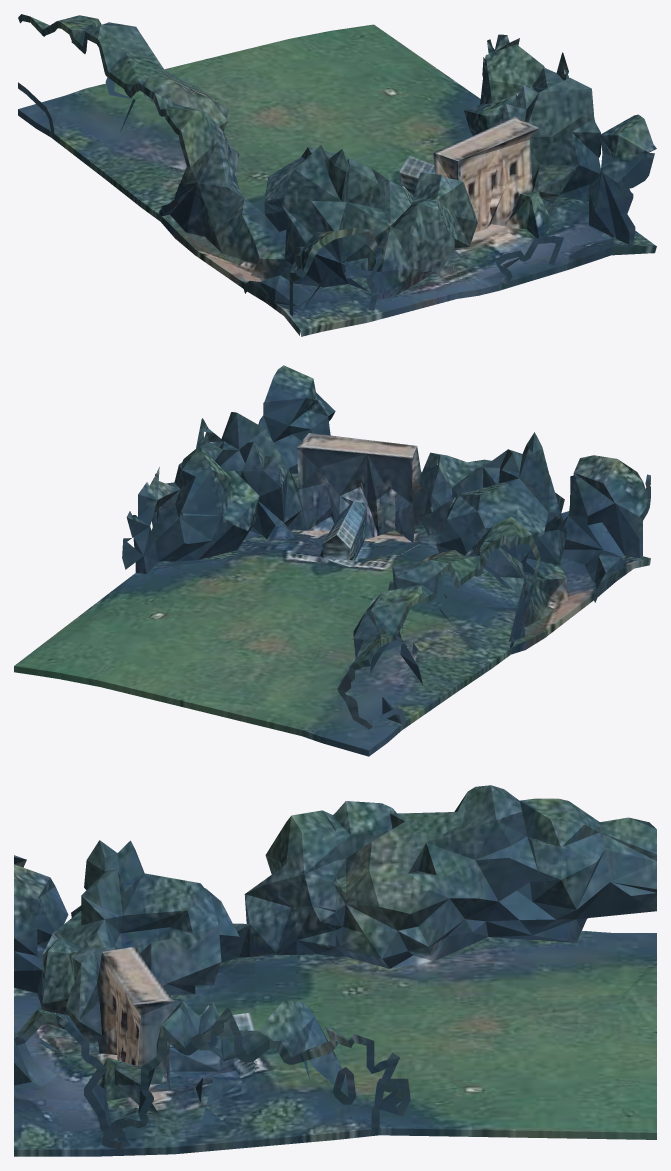
Rendered from chunk_1_-7.glb.
3 renders of one model, top to bottom at view 1: azimuth 30°, elevation 25°; view 2: azimuth 150°, elevation 25°; view 3: azimuth 270°, elevation 25°, orthographic. The views are drawn at different scales.
Visible parts, largest first — view 1: hero-chunk; view 2: hero-chunk; view 3: hero-chunk.
Part boxes in pixels (x1,y1,x2,y2): hero-chunk: (18,14,656,336); hero-chunk: (14,365,650,756); hero-chunk: (14,785,656,1156).
Size of the model in its own units: 56.34 by 23.54 by 76.32.
2 materials, 2 textured.
